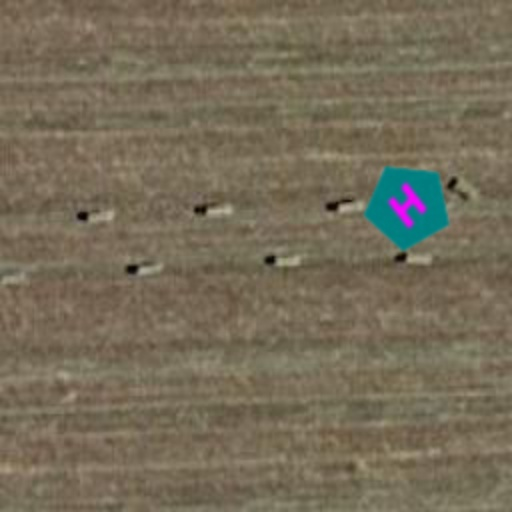pentagon: (342, 140, 474, 272)
